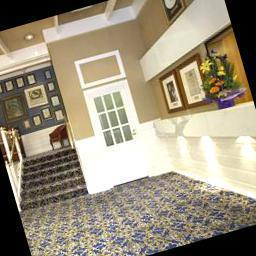Escaleras: (22, 145, 91, 212)
Puerta: (87, 81, 152, 186)
